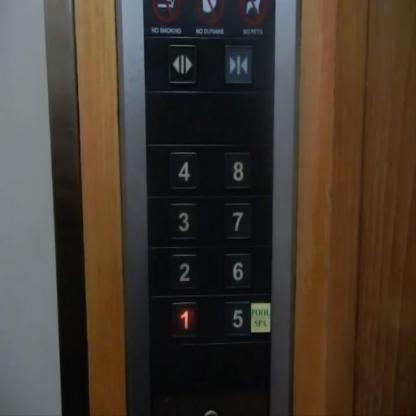1: (169, 300, 200, 338)
2: (168, 252, 198, 289)
3: (168, 201, 198, 238)
4: (166, 149, 199, 189)
5: (221, 298, 250, 334)
6: (222, 252, 250, 288)
7: (221, 201, 252, 239)
8: (221, 149, 252, 190)
close: (222, 43, 253, 84)
open: (166, 42, 197, 83)
